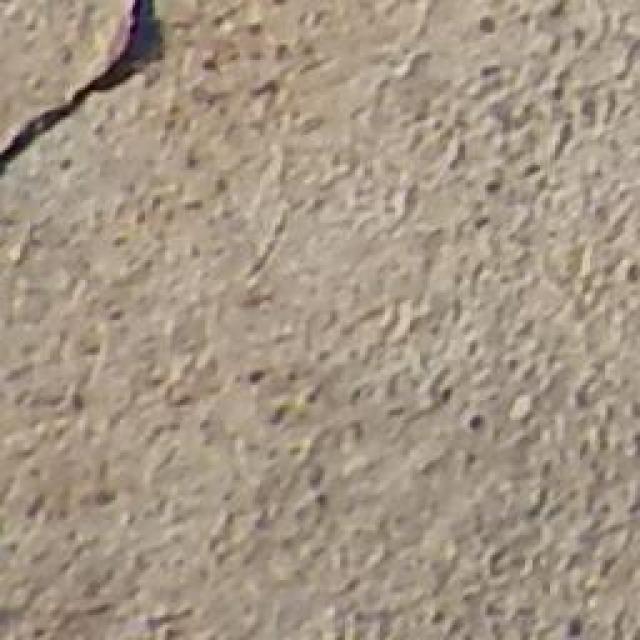concrete-crack: (0, 0, 174, 185)
